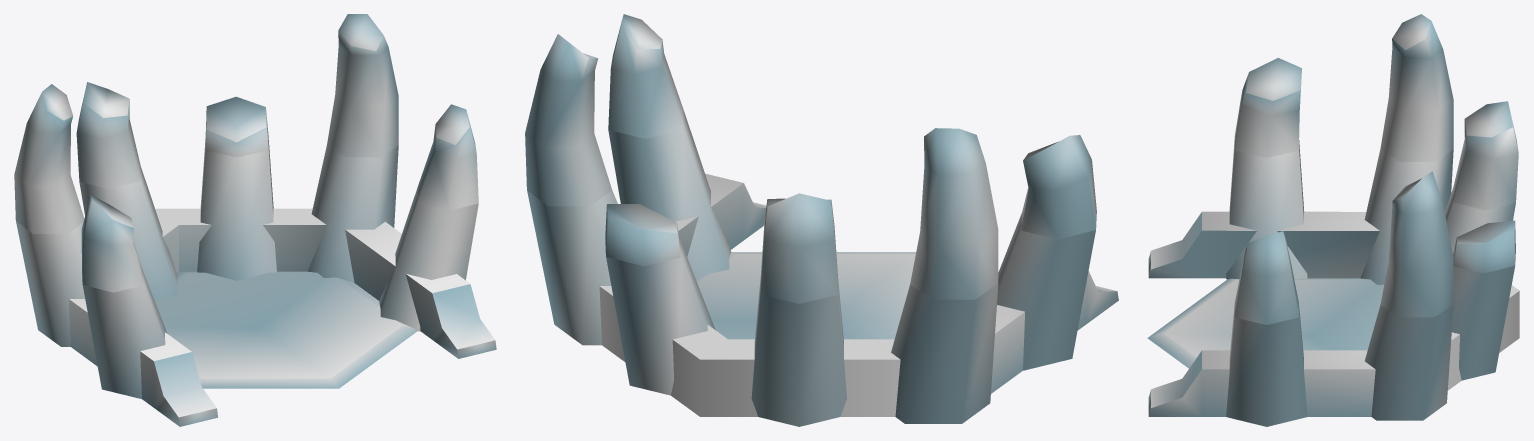
File: WarpBase.gltf
3 views of the same model, side by side, from view 1: azimuth 30°, elevation 25°; view 2: azimuth 150°, elevation 25°; view 3: azimuth 270°, elevation 25° (orthographic). The views are drawn at different scales.
Visible parts, largest first — view 1: WarpBaseMesh; view 2: WarpBaseMesh; view 3: WarpBaseMesh.
Boxes of the visible parts, x1,y1,x2,y2 form: WarpBaseMesh: (14,14,496,426); WarpBaseMesh: (525,14,1118,426); WarpBaseMesh: (1147,14,1519,426).
Size of what is drawn, in the model's own units: 5 by 2.88 by 3.99.
